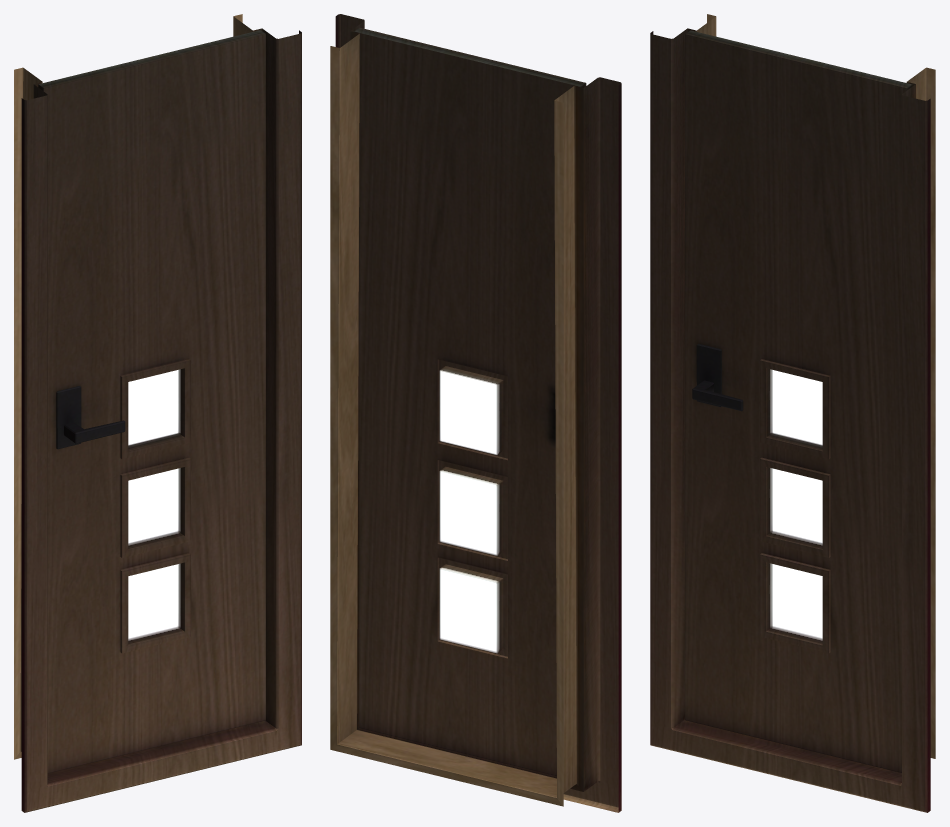
The model's file is puerta_de_madera_hoja.glb.
The picture shows the model from 3 angles, left to right: view 1: azimuth 30°, elevation 25°; view 2: azimuth 150°, elevation 25°; view 3: azimuth 330°, elevation 25°; orthographic projection. The views are drawn at different scales.
Parts seen in each view (by area): view 1: Object_3; view 2: Object_3; view 3: Object_3.
Part boxes in pixels (x1,y1,x2,y2): Object_3: (14,14,301,812); Object_3: (330,14,621,812); Object_3: (650,14,935,812).
Size of the model in its own units: 0.9039 by 2.22 by 0.2164.
Materials: 1 (1 with a texture image).
